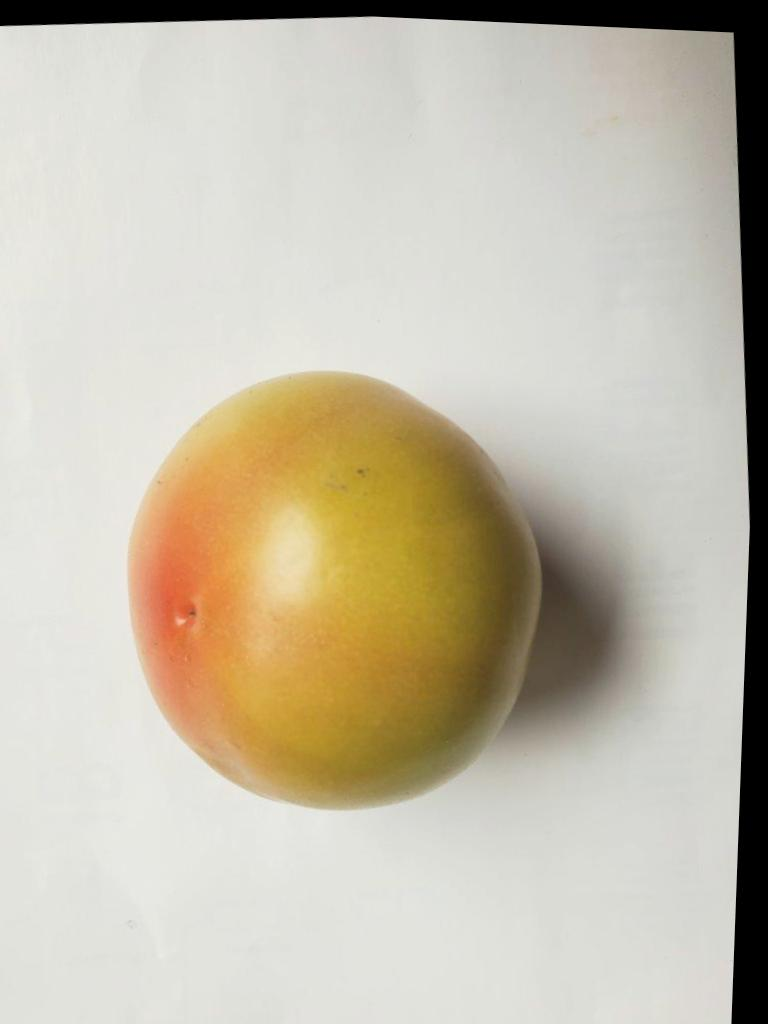tomato: (130, 373, 541, 809)
